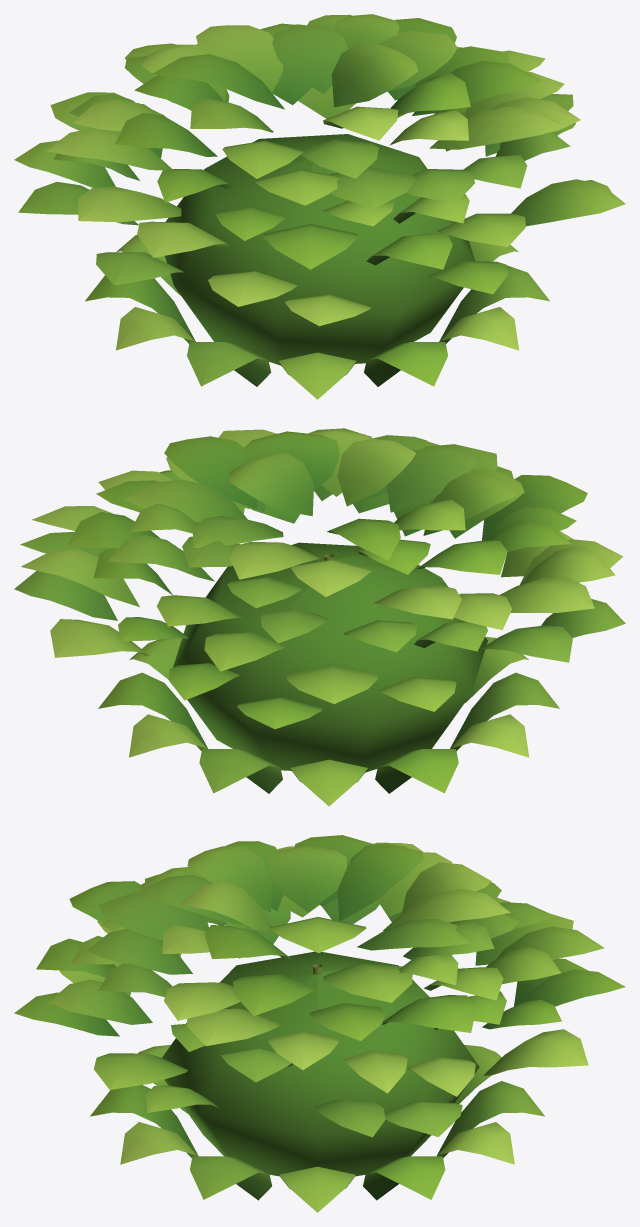
File: Bush_Round_A.fbx
3 renders of one model, top to bottom at view 1: azimuth 30°, elevation 25°; view 2: azimuth 150°, elevation 25°; view 3: azimuth 270°, elevation 25°, orthographic. The views are drawn at different scales.
Visible parts, largest first — view 1: Bush_Round_A; view 2: Bush_Round_A; view 3: Bush_Round_A.
Part boxes in pixels (<box>): Bush_Round_A: <box>14,14,625,399</box>; Bush_Round_A: <box>14,428,625,806</box>; Bush_Round_A: <box>14,835,625,1212</box>.
Size of the model in its own units: 1.43 by 0.6978 by 1.4.
